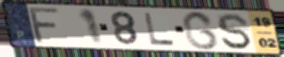1: (77, 8, 105, 47)
8: (110, 10, 141, 47)
F: (28, 6, 63, 44)
G: (181, 10, 221, 51)
L: (142, 12, 177, 47)
S: (216, 12, 254, 51)
